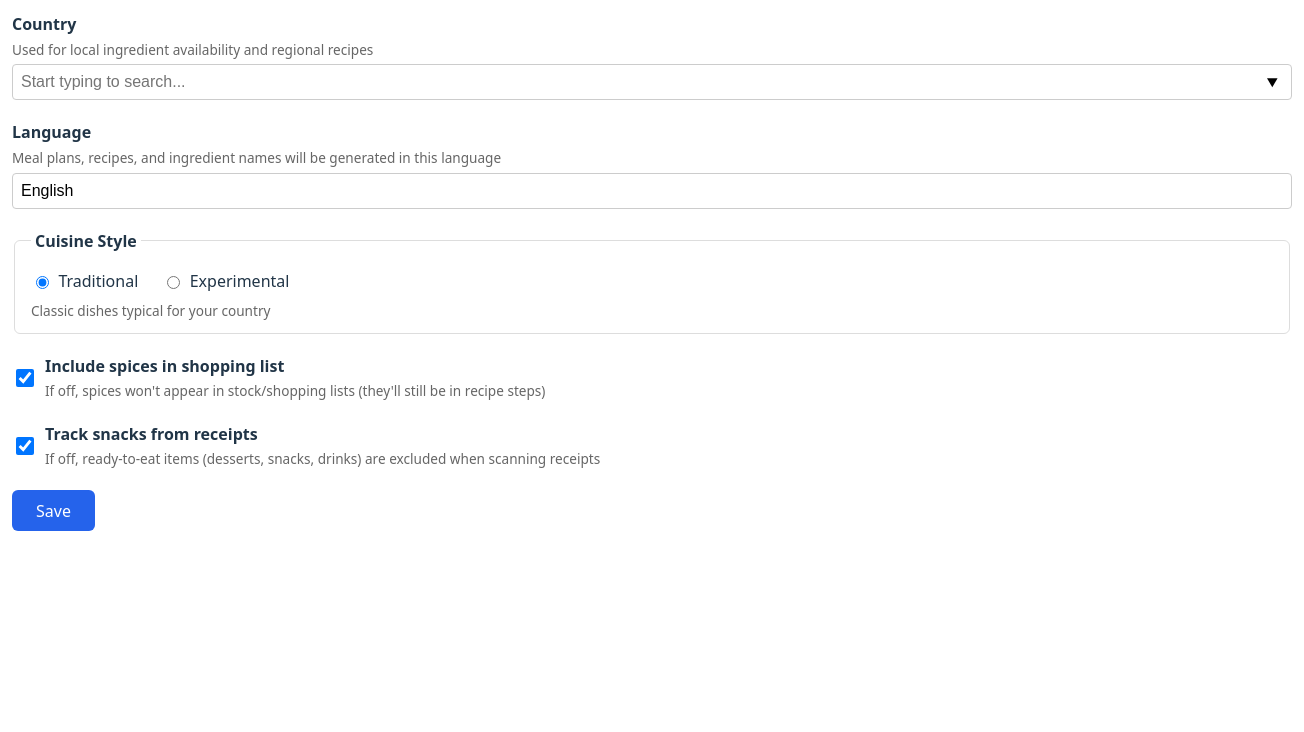
Test: PreferencesForm › shows correct description for experimental variability
Click the radio button labelled "Experimental" at (174, 282), box top-left (167, 276), bottom-right (180, 289)
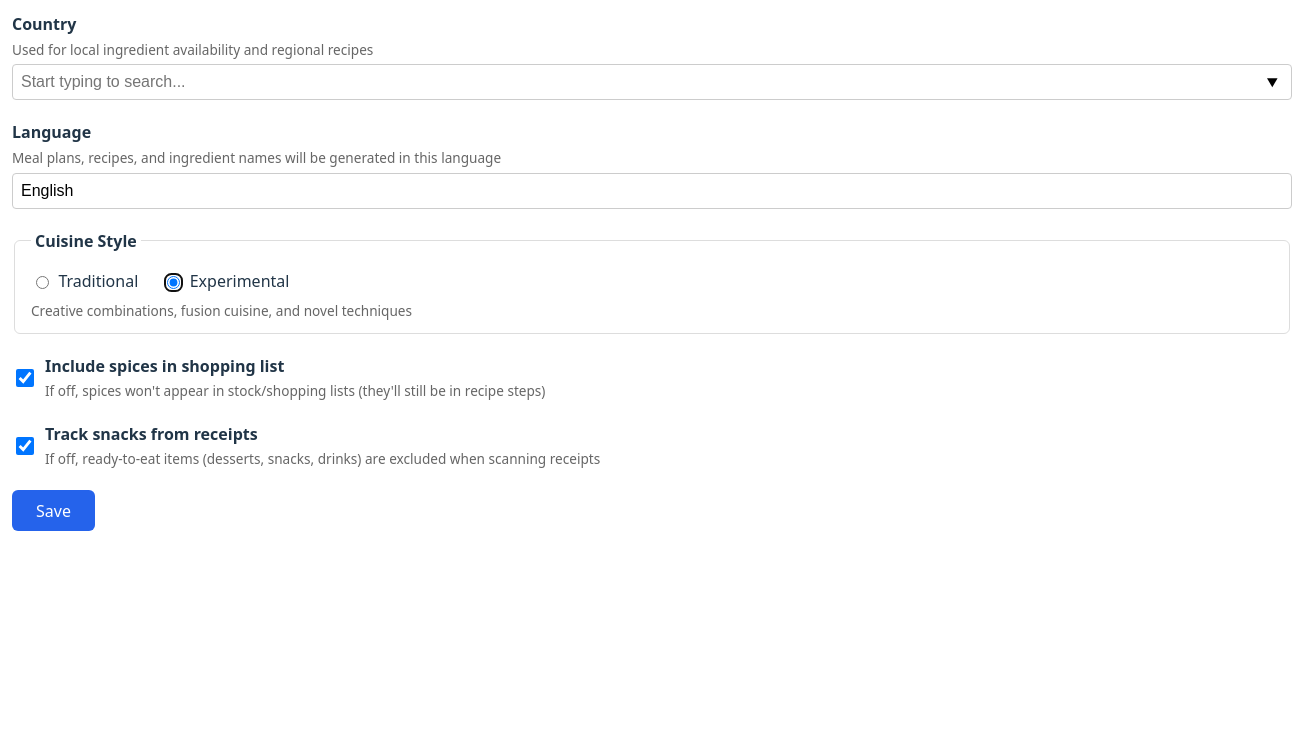
Expected: the text "Creative combinations, fusion cuisine, and novel techniques" is shown, top-left (31, 301), bottom-right (412, 320)
